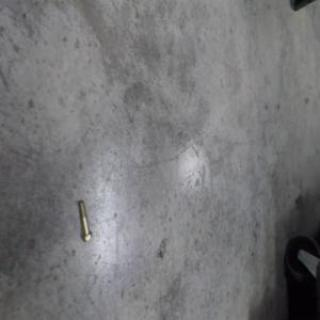Bolttrack_idkeyframe: (76, 197, 92, 242)
